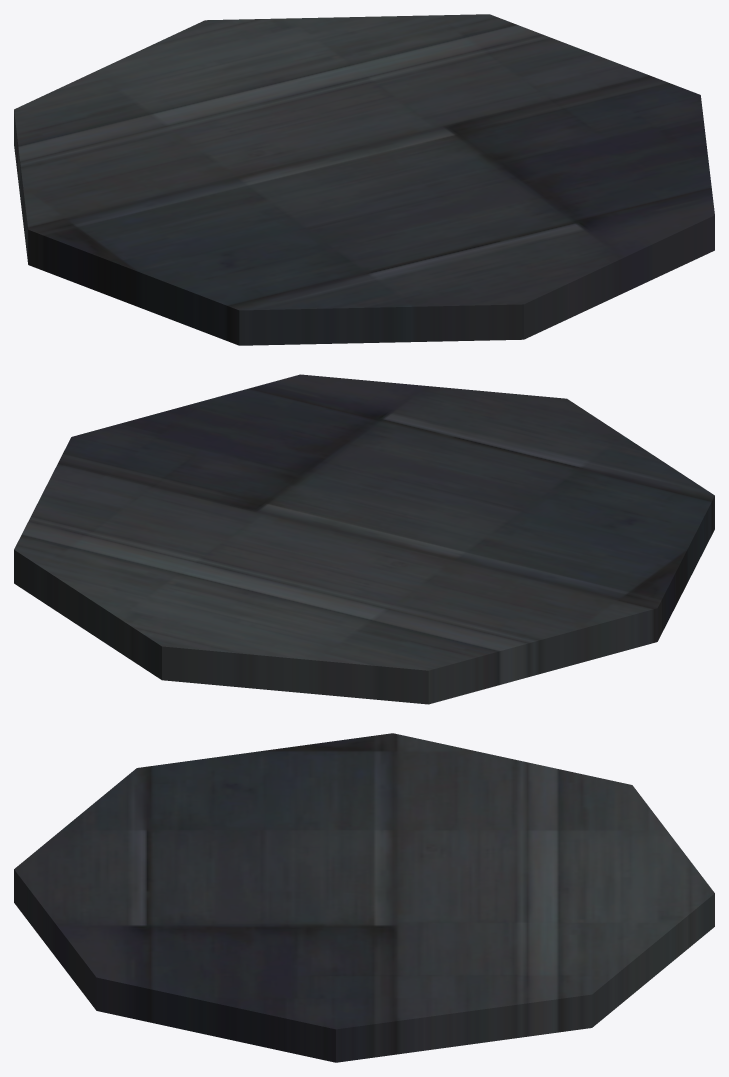
Rendered from BaseTop_1.gltf.
3 renders of one model, top to bottom at view 1: azimuth 30°, elevation 25°; view 2: azimuth 150°, elevation 25°; view 3: azimuth 270°, elevation 25°, orthographic. The views are drawn at different scales.
Visible parts, largest first — view 1: BaseTop_1; view 2: BaseTop_1; view 3: BaseTop_1.
Part boxes in pixels (<box>): BaseTop_1: <box>14,14,714,345</box>; BaseTop_1: <box>14,374,714,704</box>; BaseTop_1: <box>14,733,714,1062</box>.
Bounding box in the file's own units: 6.85 × 0.3597 × 6.85.
1 material, 1 textured.
